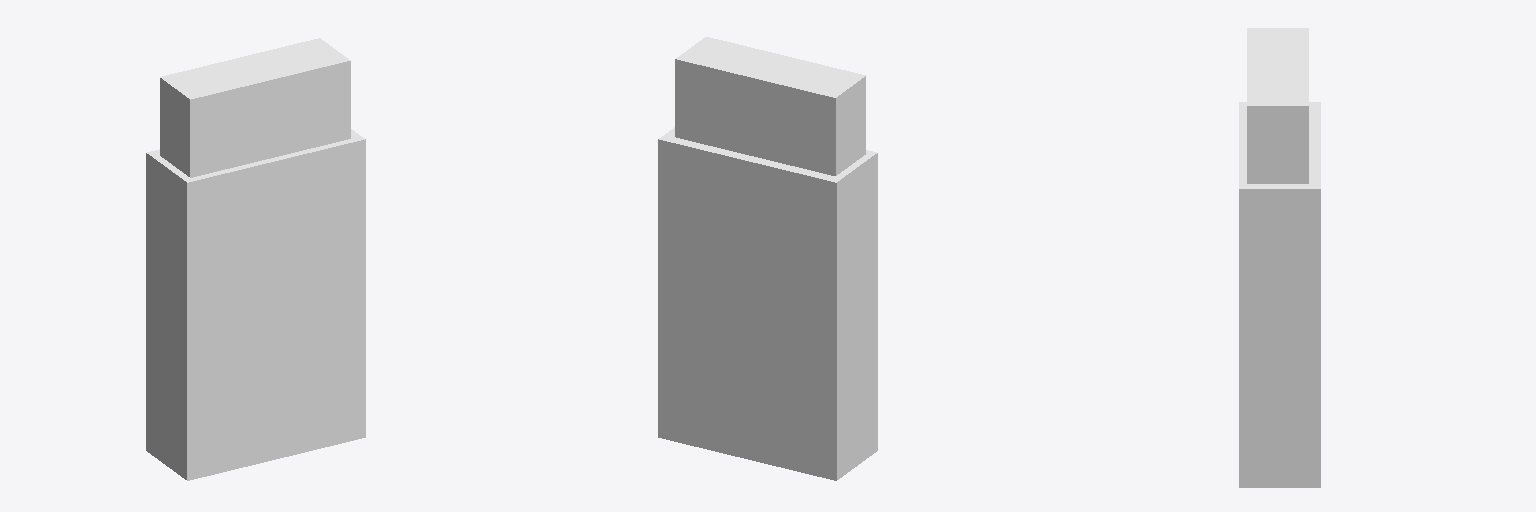
Rendered from EraserMesh.obj.
The picture shows the model from 3 angles: view 1: azimuth 30°, elevation 25°; view 2: azimuth 150°, elevation 25°; view 3: azimuth 270°, elevation 25°; orthographic projection.
Parts seen in each view (by area): view 1: EraserMesh; view 2: EraserMesh; view 3: EraserMesh.
Part boxes in pixels (x1,y1,x2,y2): EraserMesh: (146, 38, 365, 480); EraserMesh: (658, 37, 877, 480); EraserMesh: (1239, 28, 1320, 487).
Bounding box in the file's own units: 0.5 × 1.01 × 0.2.